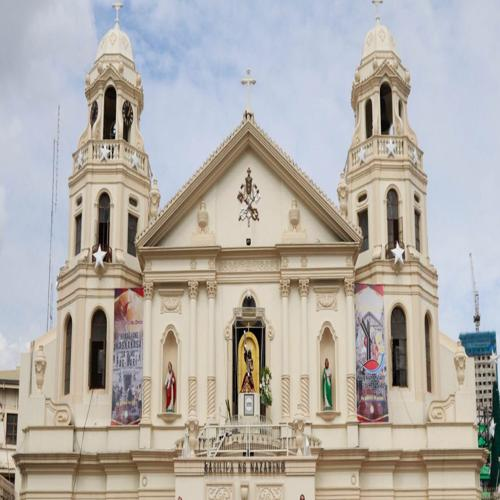Quiapo Church: (19, 2, 491, 476)
